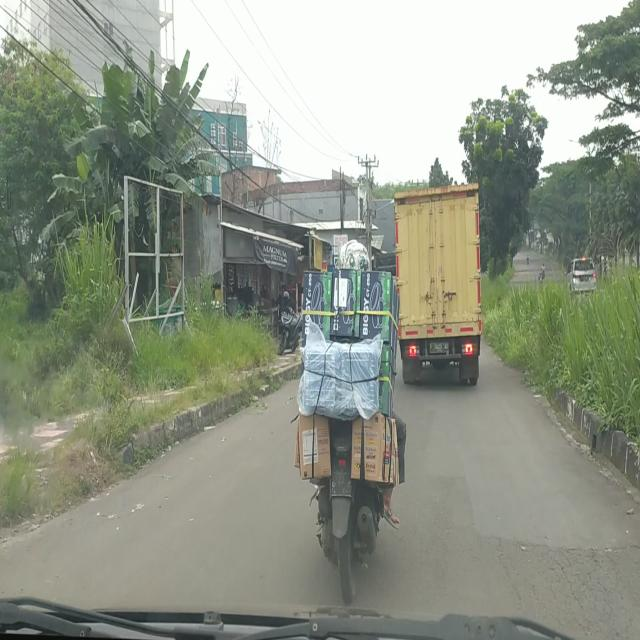Drain Hole: (498, 531, 640, 640)
